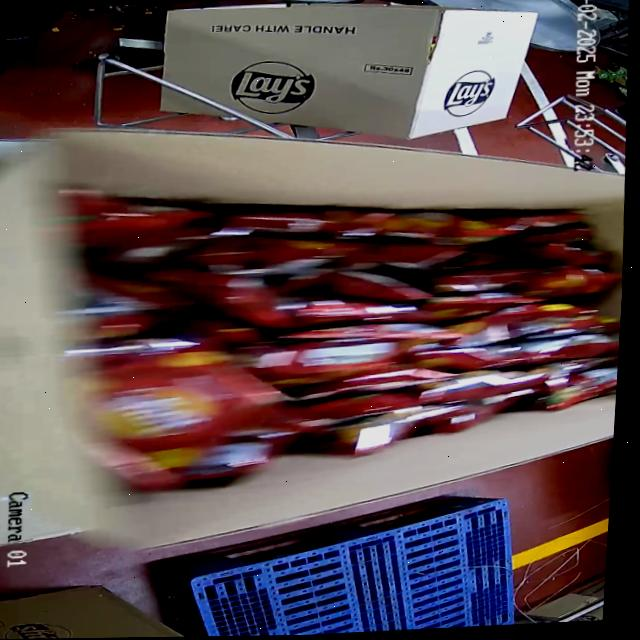MASALA: (78, 201, 612, 479)
